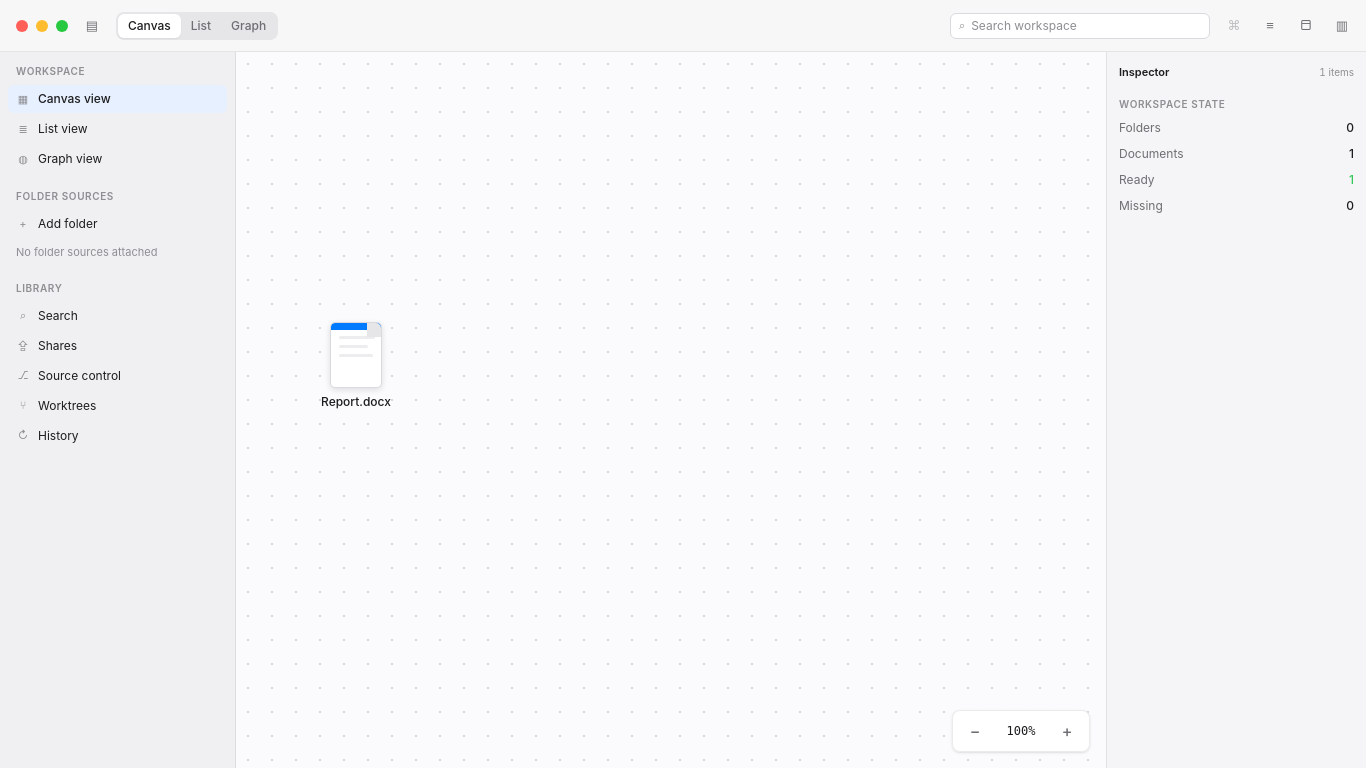
Scenario: UI-05 context pack › mounts from the real canvas selection and requests the selected document order
Step 1. Click the button with aria-label "Document: Report.docx" → (356, 366), box [321, 322, 391, 409]
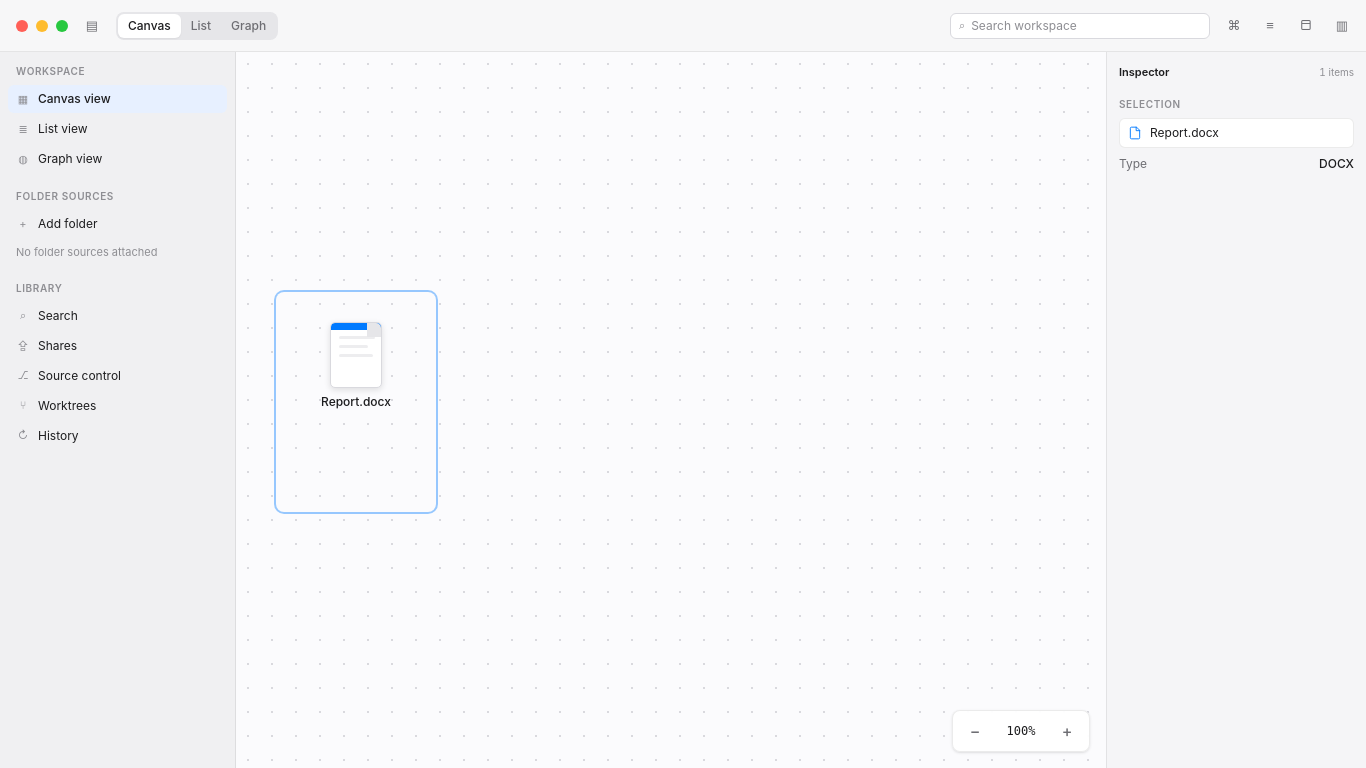
Now the button named "Context pack" is enabled
Step 2. Click the button named "Context pack" → (1234, 26), box [1222, 14, 1246, 38]
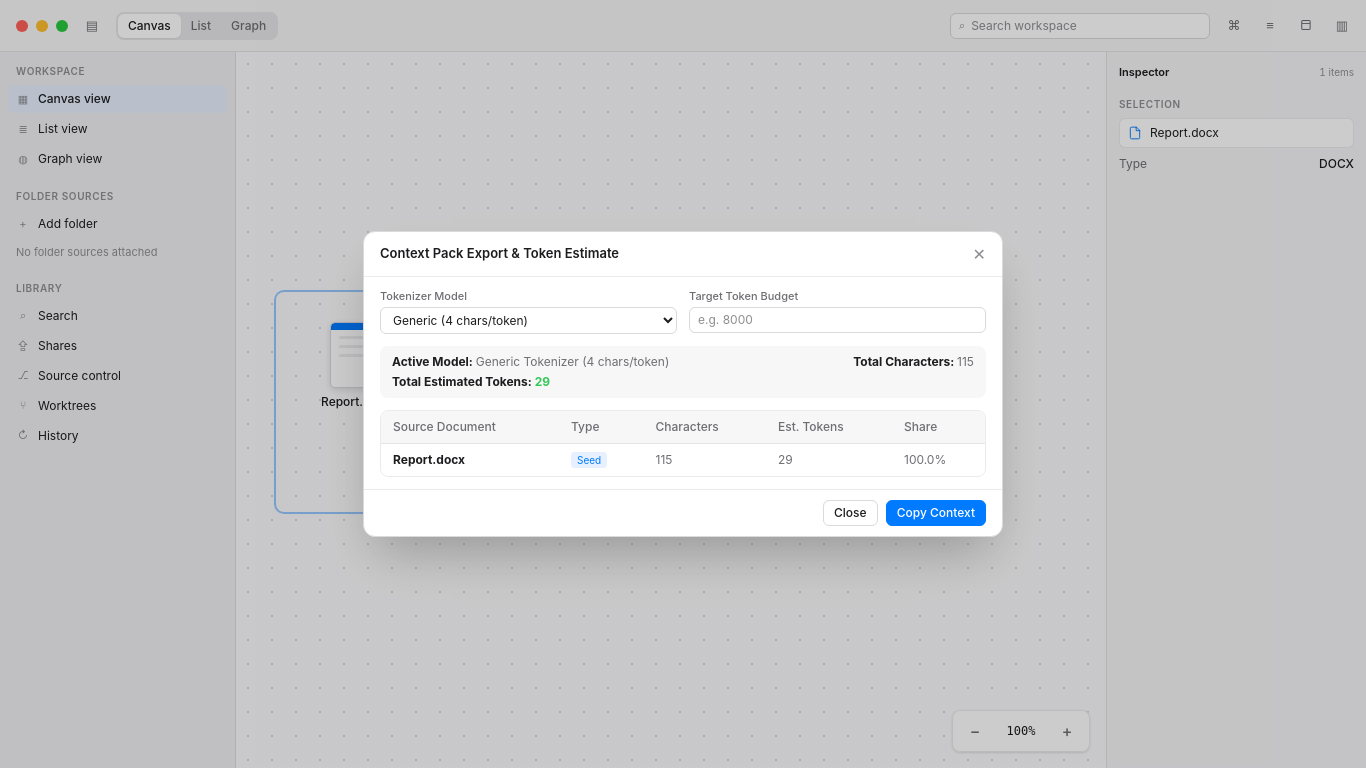
Now the row with test id "source-row-docx-1" shows "Report.docx", box [393, 452, 465, 467]
Now the button "Copy Context" is shown, box [886, 500, 986, 526]
